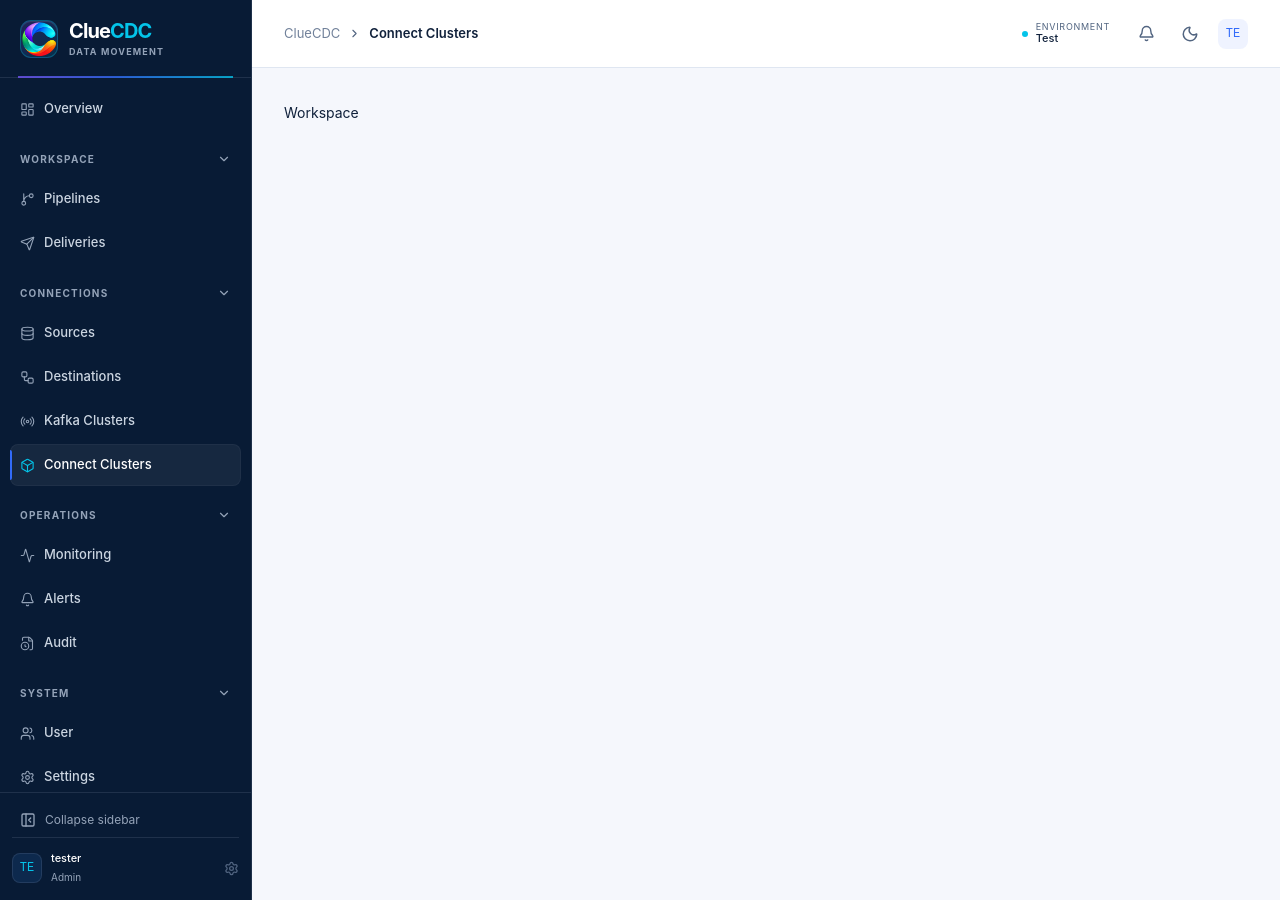
Test case: main navigation › toggles Workspace independently while Overview stays visible
Click the button "Workspace" at (126, 159), box [10,146,241,172]
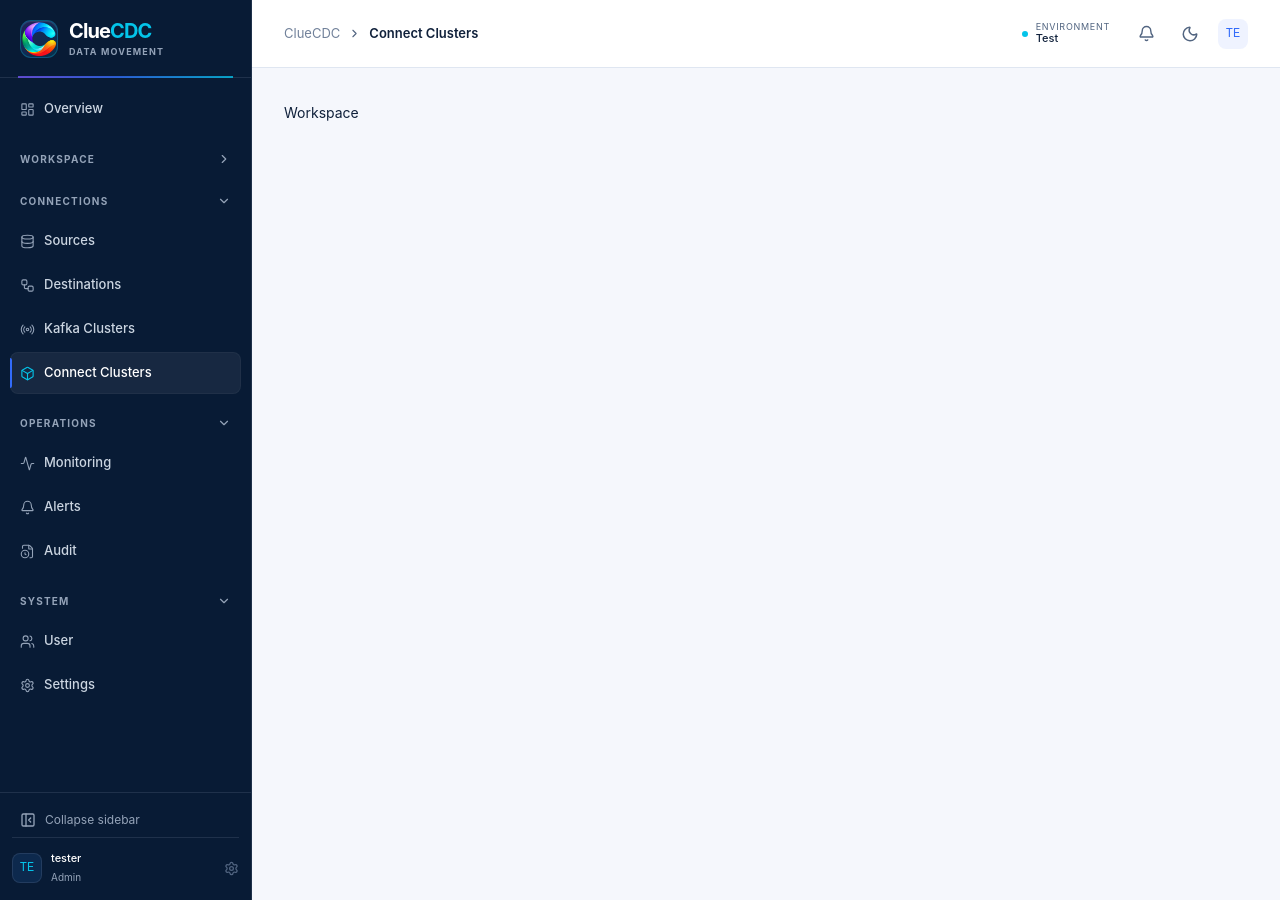
Expected: the link "Overview" is shown, [20,100,103,117]
Expected: the button "Workspace" is collapsed
Click the button "Workspace" at (126, 159), box [10,146,241,172]
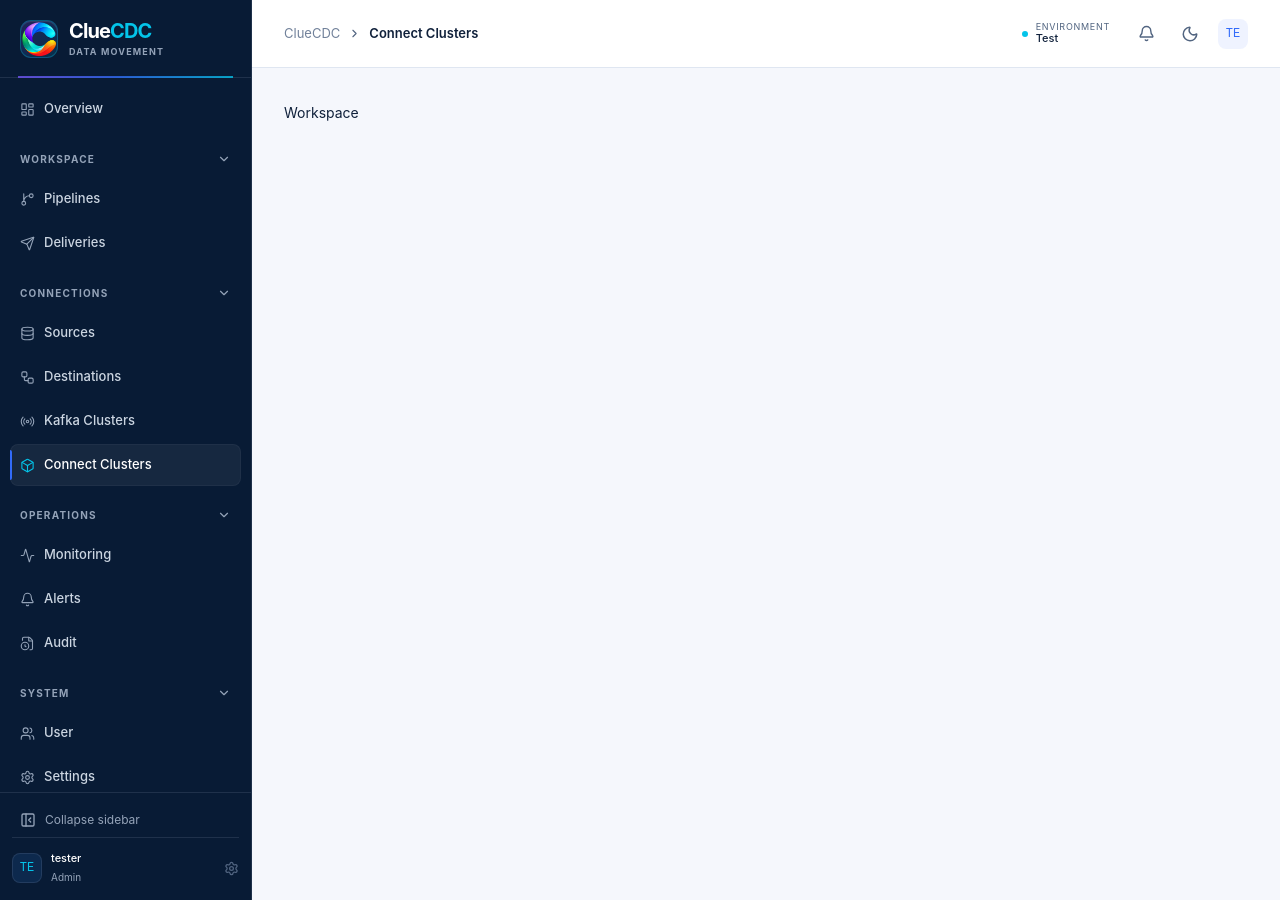
Expected: the button "Workspace" is expanded, [10,146,241,172]
